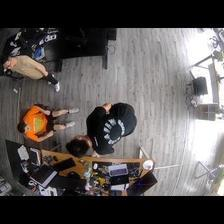normal: (67, 104, 136, 161), (3, 55, 60, 95), (17, 103, 77, 138)
